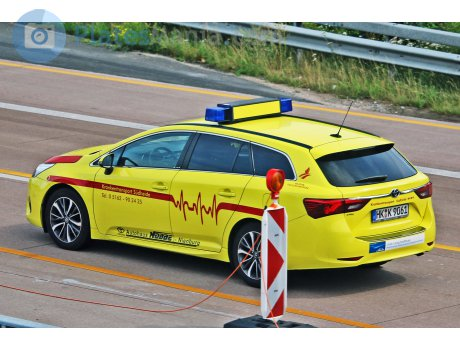License Plates: (375, 206, 414, 218)
